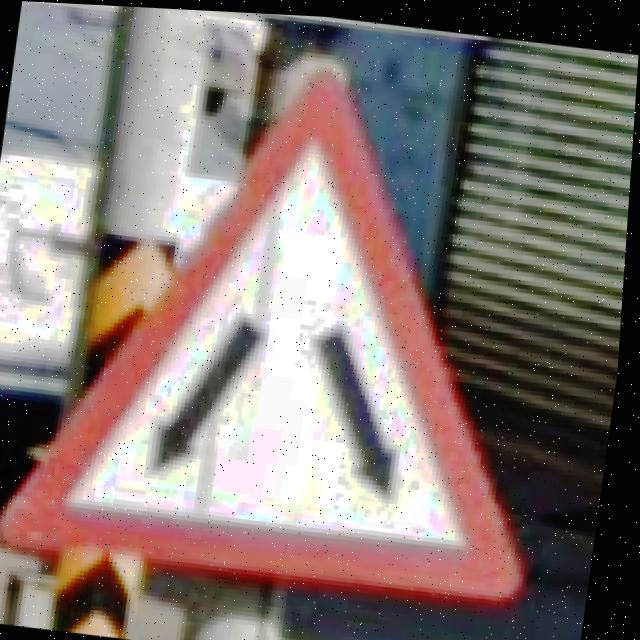diverge: (5, 63, 534, 599)
